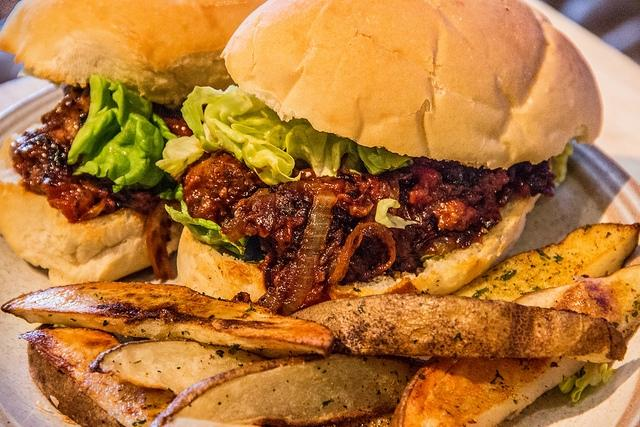lettuce: (66, 75, 182, 202), (203, 90, 301, 186), (165, 200, 238, 247), (285, 124, 349, 177), (558, 362, 618, 402)
onion: (276, 188, 338, 316), (328, 222, 396, 286), (146, 200, 182, 280)
potato: (395, 258, 640, 426), (0, 280, 335, 360), (288, 293, 628, 363), (149, 354, 420, 427), (17, 327, 176, 426), (448, 222, 640, 303), (89, 338, 268, 396)
